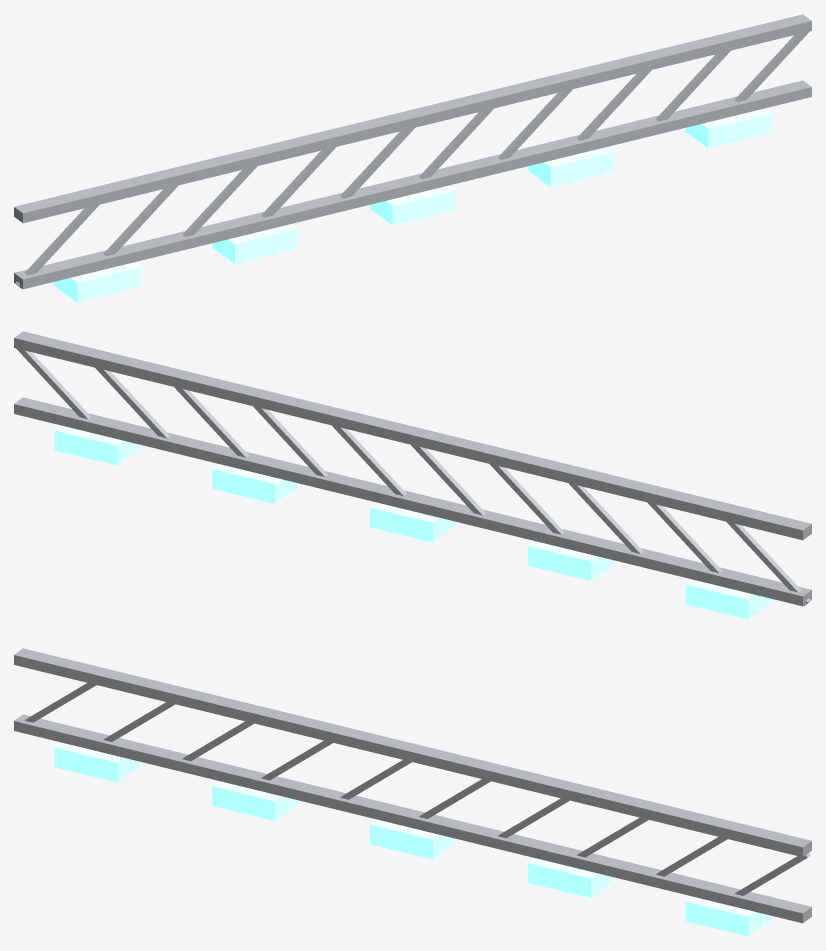
File: mech-hangar-and-battle-frames-lighting-truss-34f9e55b__26943.glb
The picture shows the model from 3 angles, top to bottom: view 1: azimuth 30°, elevation 25°; view 2: azimuth 150°, elevation 25°; view 3: azimuth 330°, elevation 25°; orthographic projection.
Visible parts, largest first — view 1: lighting-truss; view 2: lighting-truss; view 3: lighting-truss.
Boxes of the visible parts, bbox=[...] form: lighting-truss: bbox=[14, 14, 811, 302]; lighting-truss: bbox=[14, 331, 811, 619]; lighting-truss: bbox=[14, 648, 811, 936].
Bounding box in the file's own units: 5.02 × 0.58 × 0.2498.
